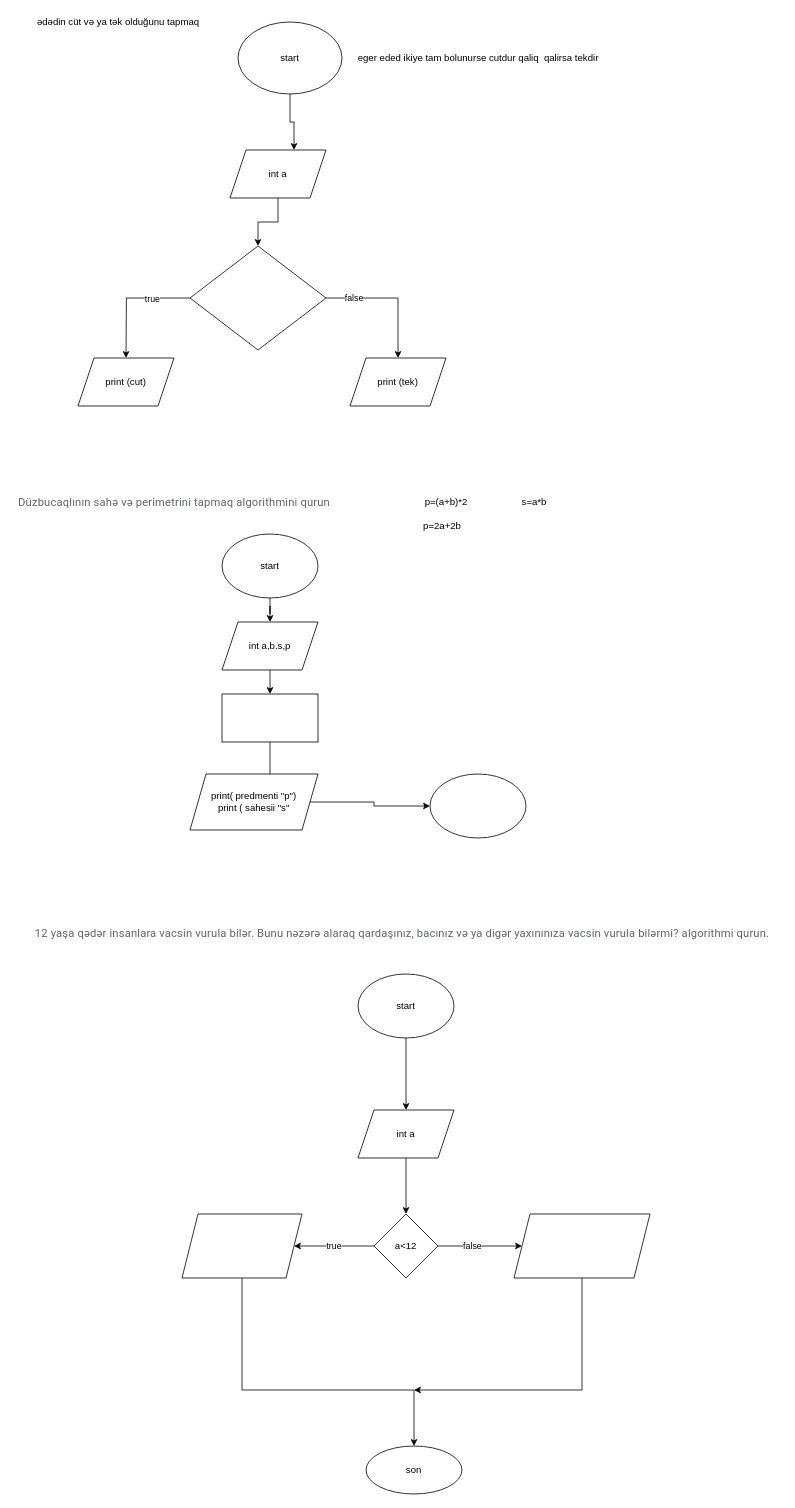
Image size: 795x1508. Some labels were removed from this diagram. The shapes that lost their labels are listed below. From the top down, each one's centre as x and y in pixels, then its label:
At point 257,297: "a%2==0".
At point 269,717: "p=(a+b)*2; s=a*b".
At point 477,805: "end".
At point 241,1245: "print(vaksin vurdura biler".
At point 581,1245: "print (vaksin vurula bilmez".
